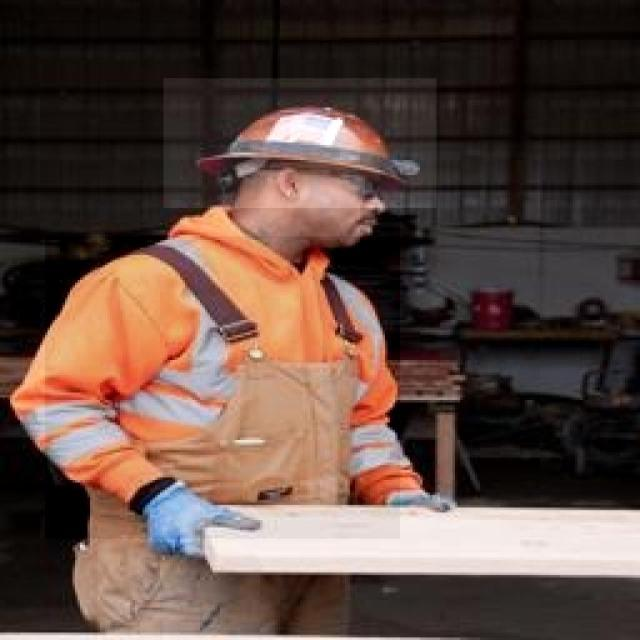Helmet: (45, 236, 400, 538), (164, 78, 436, 208)
